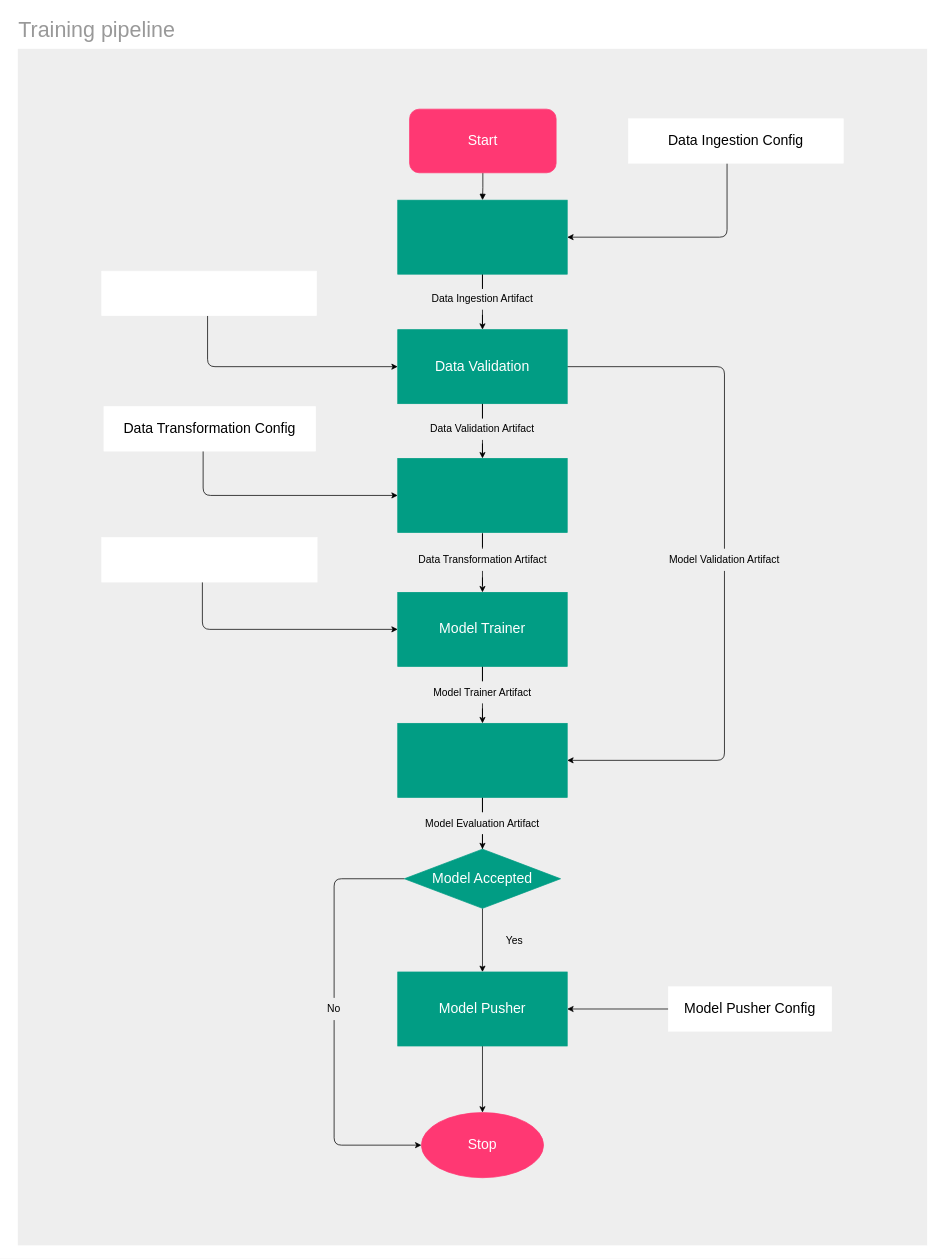
Image size: 941x1259. Some labels were removed from this diagram. The shapes that lost their labels are listed below. From the top down, each one's centre as x and y in pixels, then its label:
the point at 482,236: Data Ingestion
the point at 208,293: Data Validation Config
the point at 482,495: Data Transformation
the point at 209,559: Model Trainer Config
the point at 482,760: Model Evaluation
